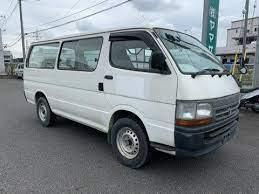Van: (23, 26, 246, 170)
